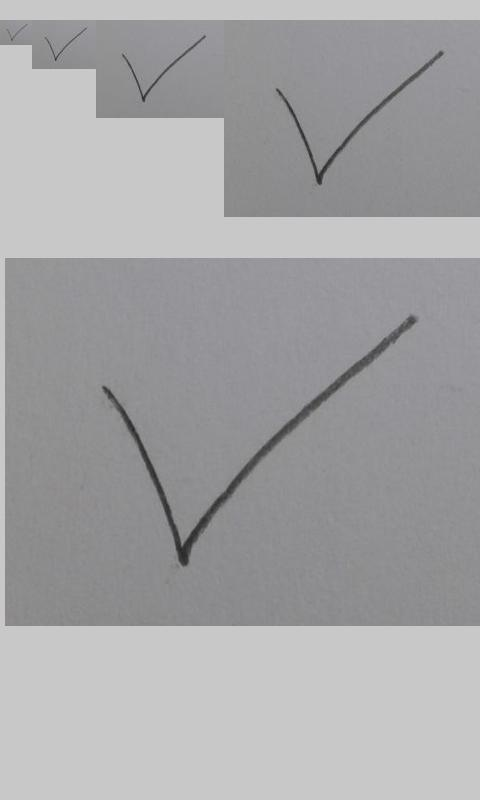check_box: (103, 314, 419, 566), (275, 51, 443, 186), (121, 35, 207, 102), (44, 27, 87, 61), (7, 24, 28, 41)
